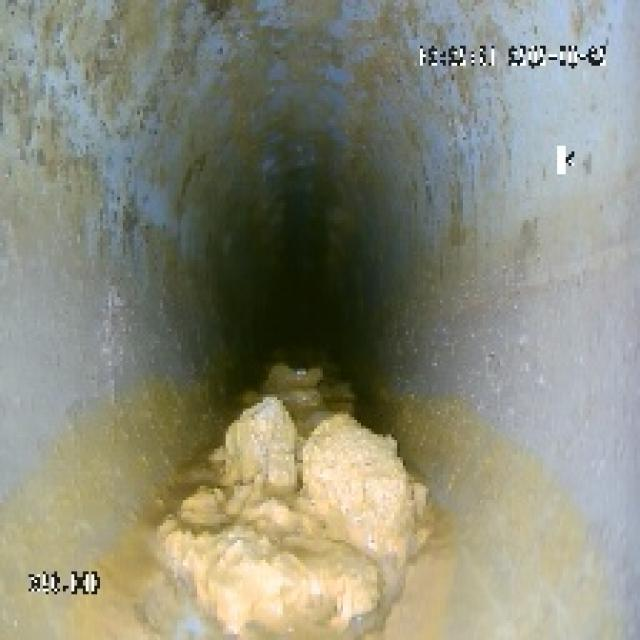sluge accumulation: (160, 337, 434, 620)
